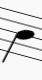note: (1, 2, 36, 68)
